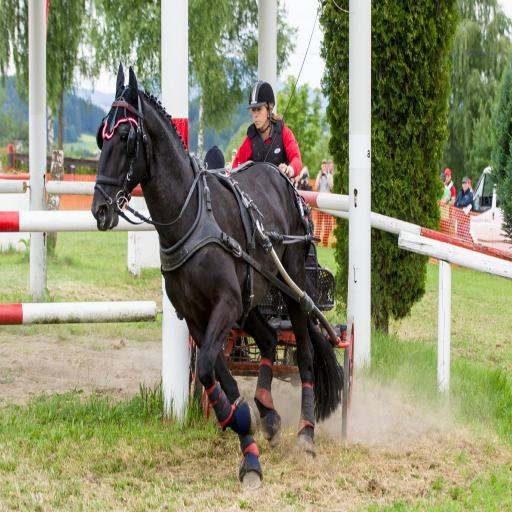Horse: (90, 60, 345, 488)
